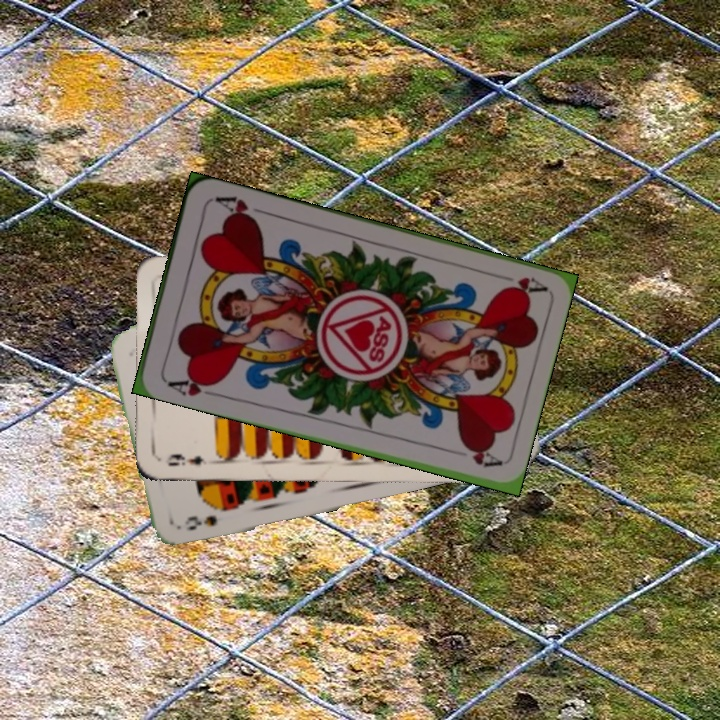E9: (161, 450, 209, 469)
HA: (161, 371, 221, 399), (489, 269, 548, 297)
S9: (180, 501, 231, 533)
